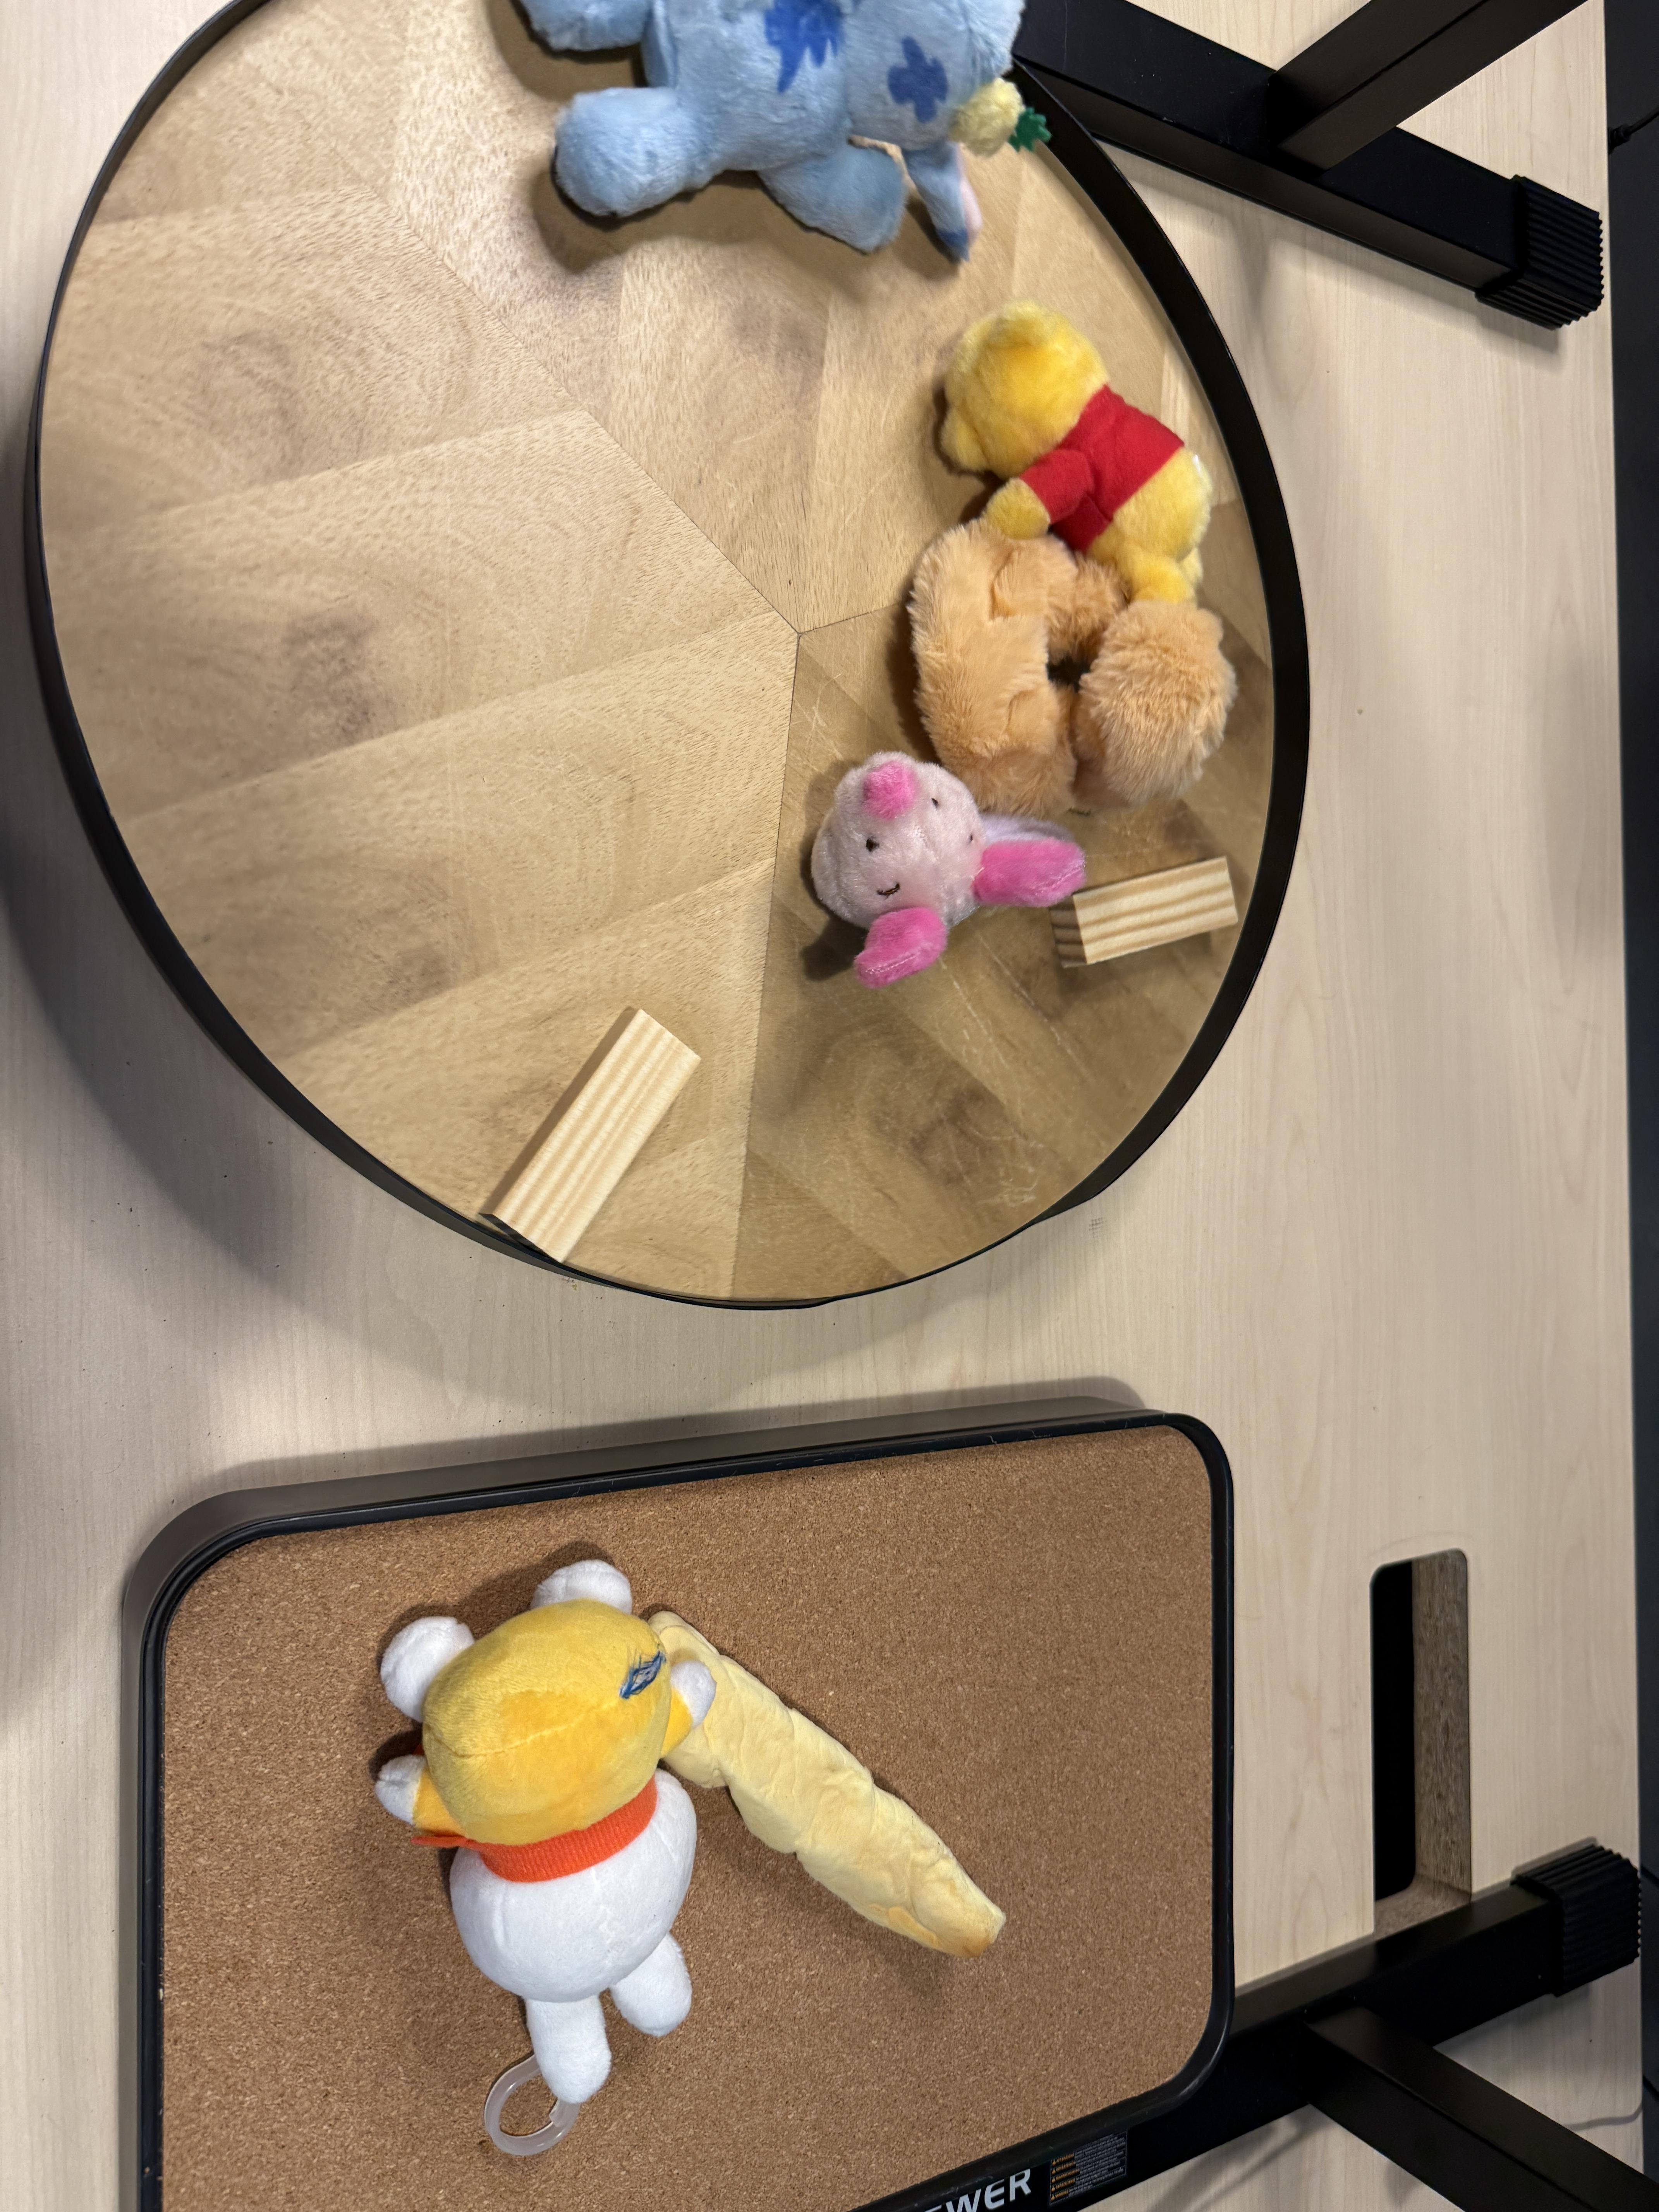block: (481, 1003, 706, 1273), (1068, 852, 1251, 981)
bread: (624, 1602, 1007, 1944)
doll: (380, 1554, 714, 2113), (922, 314, 1239, 817), (507, 0, 1047, 253), (814, 751, 1086, 977)
